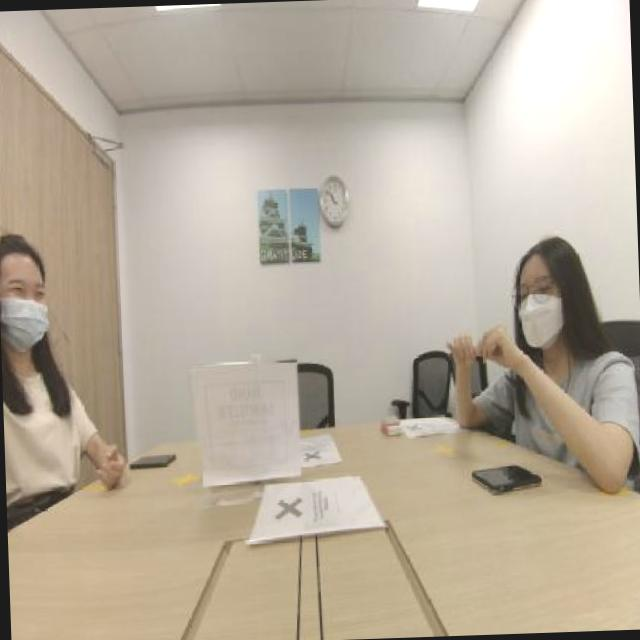Person: (467, 195, 621, 438), (0, 197, 84, 496)
